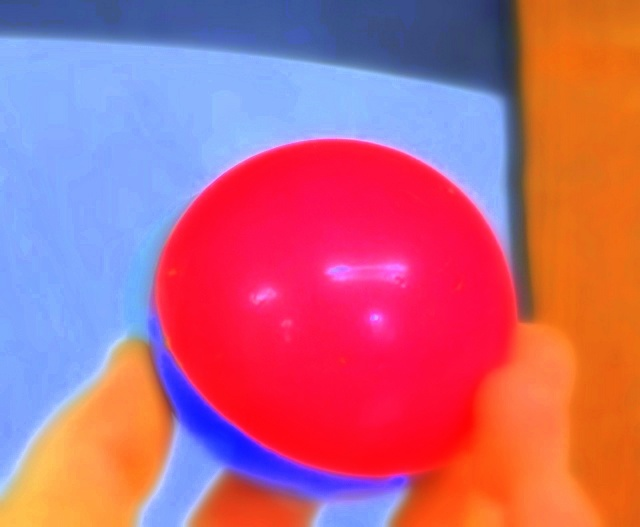ball: (154, 139, 517, 477)
